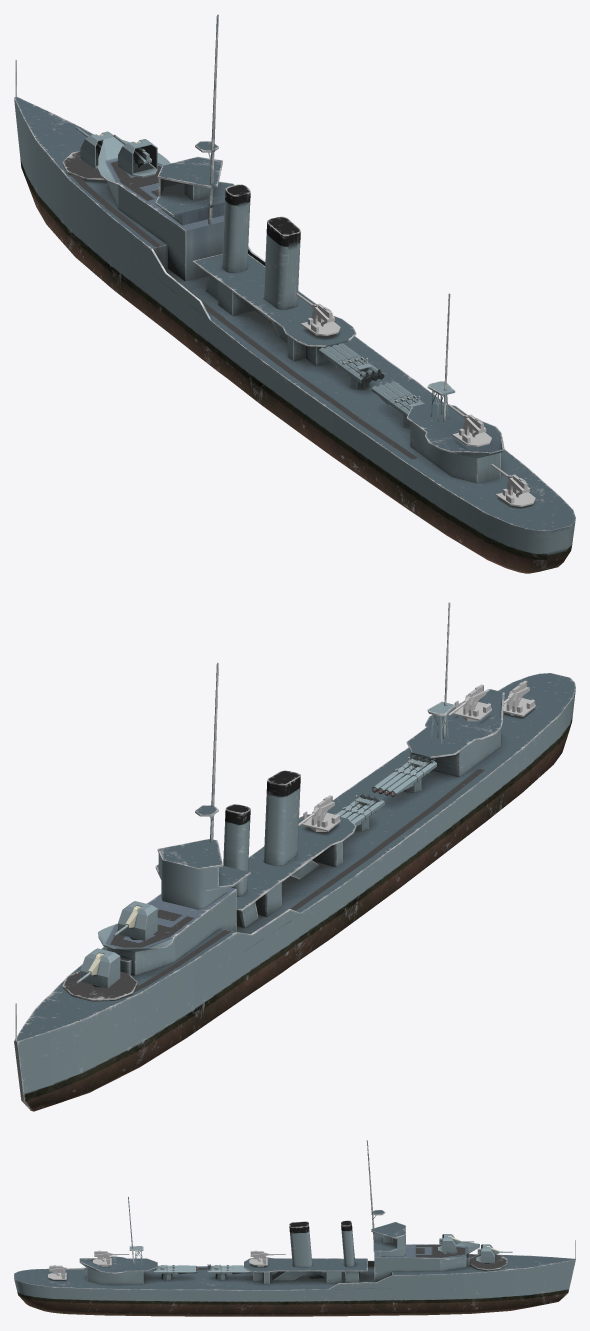
The model's file is Farragut.fbx.
3 views of the same model, one above another, from view 1: azimuth 30°, elevation 25°; view 2: azimuth 150°, elevation 25°; view 3: azimuth 270°, elevation 25° (orthographic). The views are drawn at different scales.
Parts seen in each view (by area): view 1: hull, front torpedo, main gun.002, rear torpedo, main gun.005, main gun.003, main gun.004, main gun.001; view 2: hull, rear torpedo, main gun.001, main gun.002, front torpedo, main gun.004, main gun.003, main gun.005; view 3: hull, rear torpedo, front torpedo, main gun.001, main gun.002, main gun.005, main gun.004, main gun.003.
Boxes of the visible parts, <box> form: hull: <box>14,14,575,573</box>; front torpedo: <box>319,343,384,389</box>; main gun.002: <box>113,134,157,177</box>; rear torpedo: <box>371,381,424,428</box>; main gun.005: <box>491,464,535,506</box>; main gun.003: <box>296,293,340,335</box>; main gun.004: <box>447,404,491,446</box>; main gun.001: <box>76,127,113,168</box>; hull: <box>14,602,575,1111</box>; rear torpedo: <box>371,755,436,797</box>; main gun.001: <box>76,948,120,988</box>; main gun.002: <box>113,901,157,940</box>; front torpedo: <box>334,793,384,830</box>; main gun.004: <box>447,684,491,721</box>; main gun.003: <box>298,795,340,831</box>; main gun.005: <box>503,680,535,716</box>; hull: <box>14,1140,575,1316</box>; rear torpedo: <box>153,1265,197,1280</box>; front torpedo: <box>207,1264,251,1280</box>; main gun.001: <box>476,1244,512,1263</box>; main gun.002: <box>438,1234,474,1253</box>; main gun.005: <box>48,1265,84,1279</box>; main gun.004: <box>93,1250,129,1266</box>; main gun.003: <box>249,1250,285,1266</box>.
Size of the model in its own units: 1044 by 3417 by 10366.
